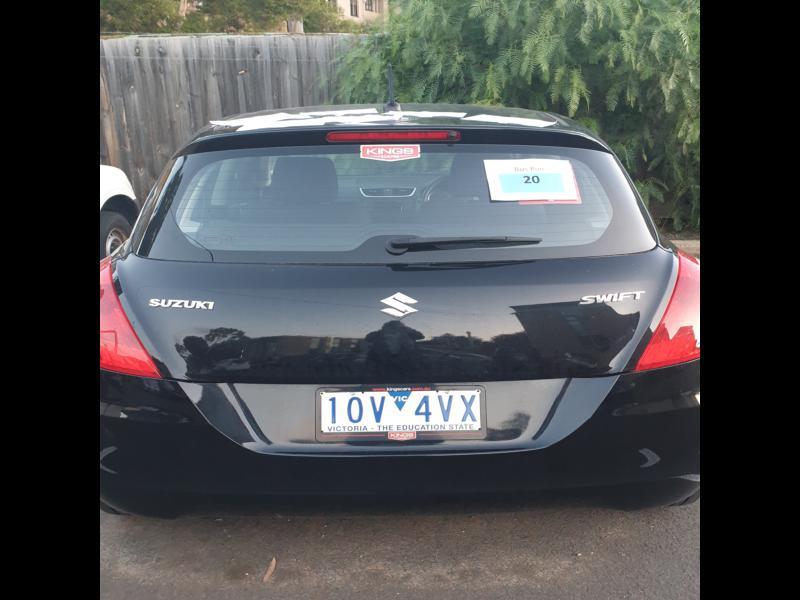BusRun: (502, 172, 563, 190)
PlateNo: (318, 390, 485, 430)
